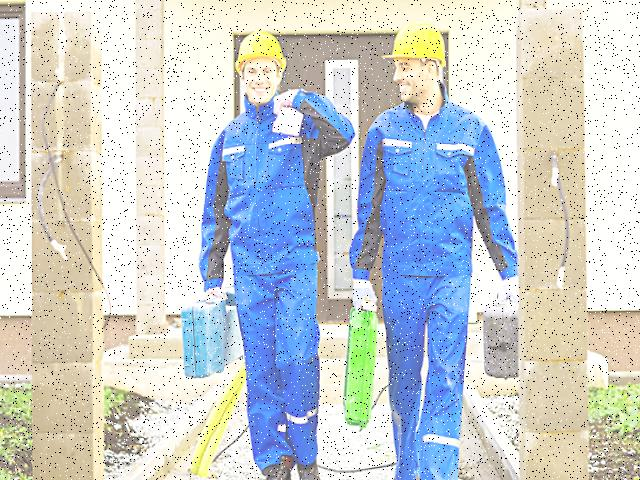Helmet: (386, 14, 448, 78), (233, 24, 290, 85)
